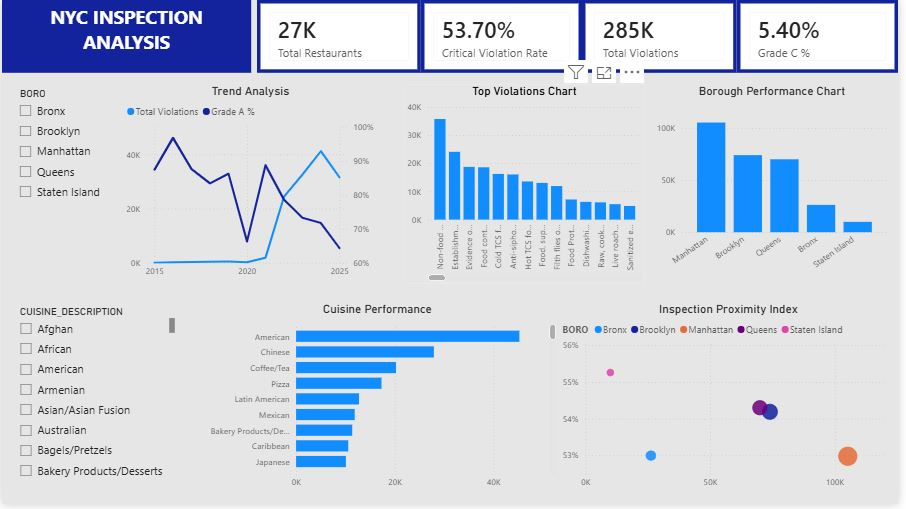

The dashboard page shown, as its layout file describes it:
{"tool":"powerbi","page":{"name":"Page 1","canvas":[1280,720],"ordinal":0},"visuals":[{"type":"cardVisual","fields":{"Data":["nyc_inspection.Total Restaurants"]},"box":[364.3,0,234.3,104.3],"z":1},{"type":"cardVisual","fields":{"Data":["nyc_inspection.Critical Violation Rate"]},"box":[598.6,0,230,104.3],"z":3},{"type":"cardVisual","fields":{"Data":["nyc_inspection.Total Violations"]},"box":[828.6,0,221.4,104.3],"z":4},{"type":"columnChart","title":"Top Violations Chart","fields":{"Y":["nyc_inspection.Total Violations"],"Category":["nyc_inspection.VIOLATION_DESCRIPTION"]},"box":[574.3,120,344.3,285.7],"z":6},{"type":"cardVisual","fields":{"Data":["nyc_inspection.Grade C %"]},"box":[1050,0,230,104.3],"z":7},{"type":"clusteredColumnChart","title":"Borough Performance Chart","fields":{"Category":["nyc_inspection.BORO"],"Y":["nyc_inspection.Total Violations"]},"box":[930,120,340,285.7],"z":8},{"type":"barChart","title":"Cuisine Performance","fields":{"Y":["nyc_inspection.Total Violations"],"Category":["nyc_inspection.CUISINE_DESCRIPTION"]},"box":[277.1,431.4,518.6,275.7],"z":9},{"type":"lineChart","title":"Trend Analysis","fields":{"Category":["nyc_inspection.GRADE_DATE.Variation.Date Hierarchy.Year"],"Y":["nyc_inspection.Total Violations"],"Y2":["nyc_inspection.Grade A %"]},"box":[172.9,120,364.3,285.7],"z":10},{"type":"scatterChart","title":"Inspection Proximity Index","fields":{"X":["nyc_inspection.Total Violations"],"Y":["nyc_inspection.Critical Violation Rate"],"Size":["nyc_inspection.Total Restaurants"],"Series":["nyc_inspection.BORO"]},"box":[795.7,431.4,484.3,275.7],"z":11},{"type":"slicer","fields":{"Values":["nyc_inspection.BORO"]},"box":[12.9,120,162.9,285.7],"z":12},{"type":"textbox","box":[0,0,355.7,104.3],"z":13},{"type":"slicer","fields":{"Values":["nyc_inspection.CUISINE_DESCRIPTION"]},"box":[12.9,431.4,238.6,264.3],"z":14}]}

Visuals, with their boxes in screenshot pixels (x1, y1, x2, y2), scaled from the page's 1280x720 canvas onto the 906x509 screenshot:
cardVisual - nyc_inspection.Total Restaurants: bbox(258, 0, 424, 74)
cardVisual - nyc_inspection.Critical Violation Rate: bbox(424, 0, 586, 74)
cardVisual - nyc_inspection.Total Violations: bbox(586, 0, 743, 74)
"Top Violations Chart" columnChart: bbox(406, 85, 650, 287)
cardVisual - nyc_inspection.Grade C %: bbox(743, 0, 905, 74)
"Borough Performance Chart" clusteredColumnChart: bbox(658, 85, 899, 287)
"Cuisine Performance" barChart: bbox(196, 305, 563, 500)
"Trend Analysis" lineChart: bbox(122, 85, 380, 287)
"Inspection Proximity Index" scatterChart: bbox(563, 305, 905, 500)
slicer - nyc_inspection.BORO: bbox(9, 85, 124, 287)
textbox: bbox(0, 0, 252, 74)
slicer - nyc_inspection.CUISINE_DESCRIPTION: bbox(9, 305, 178, 492)
